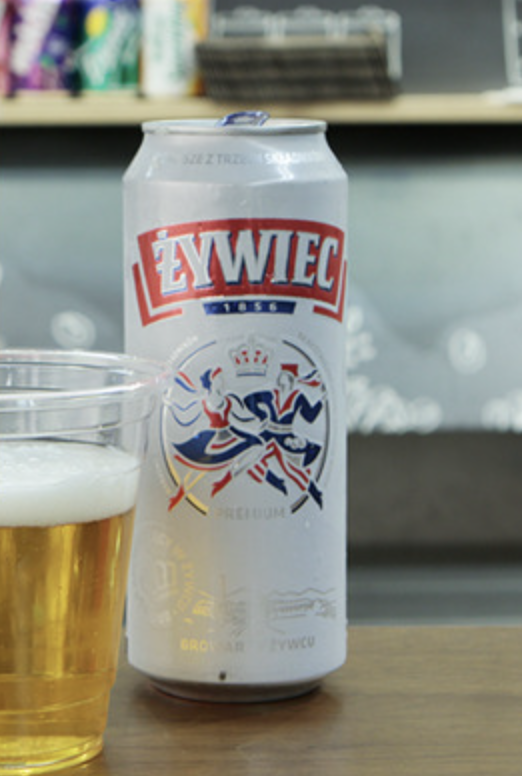beer-can: (121, 109, 349, 702)
